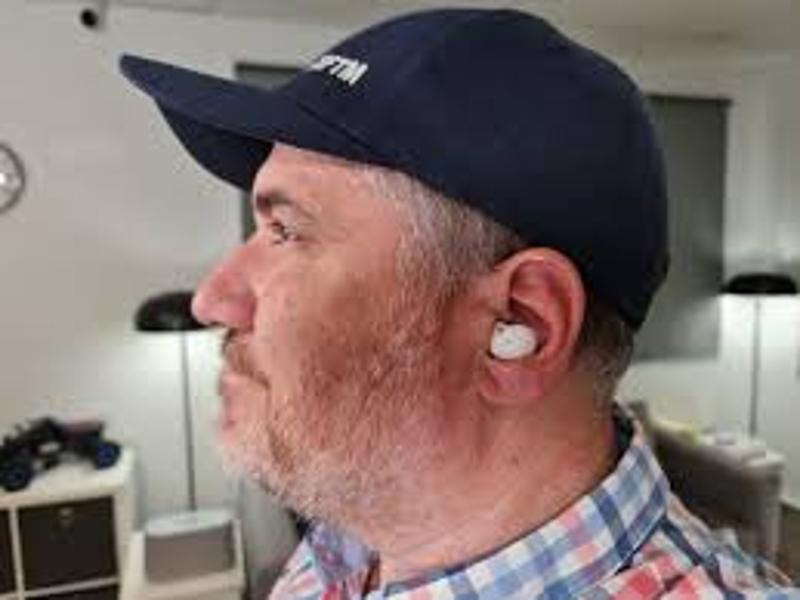headphone: (484, 316, 540, 359)
